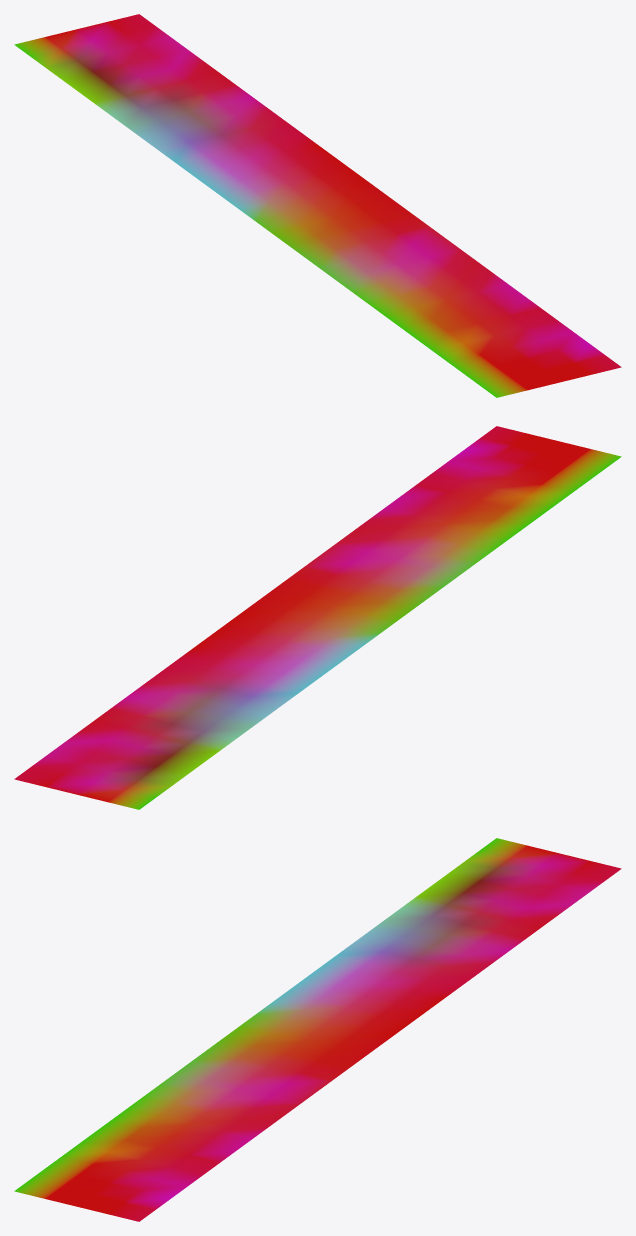
Rendered from Road_Segment_BetweenLanes.fbx.
3 views of the same model, one above another, from view 1: azimuth 30°, elevation 25°; view 2: azimuth 150°, elevation 25°; view 3: azimuth 330°, elevation 25° (orthographic).
Parts seen in each view (by area): view 1: Road_Segment_BetweenLanes; view 2: Road_Segment_BetweenLanes; view 3: Road_Segment_BetweenLanes.
Part boxes in pixels (left/top/right/bottom): Road_Segment_BetweenLanes: left=14, top=14, right=621, bottom=397; Road_Segment_BetweenLanes: left=14, top=426, right=621, bottom=809; Road_Segment_BetweenLanes: left=14, top=838, right=621, bottom=1221.
Bounding box in the file's own units: 4.18 × 3.96e-09 × 27.85.
